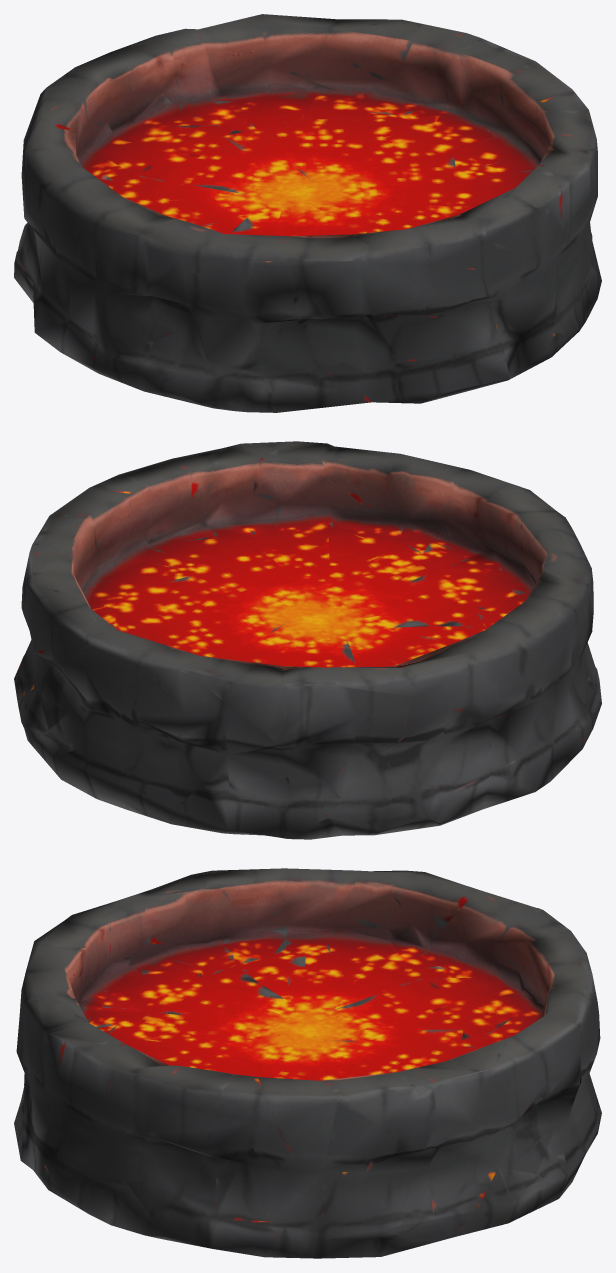
Rendered from ember_pool.glb.
The picture shows the model from 3 angles, top to bottom: view 1: azimuth 30°, elevation 25°; view 2: azimuth 150°, elevation 25°; view 3: azimuth 270°, elevation 25°; orthographic projection.
Size of the model in its own units: 1.99 by 0.6307 by 1.99.
1 material, 1 textured.
